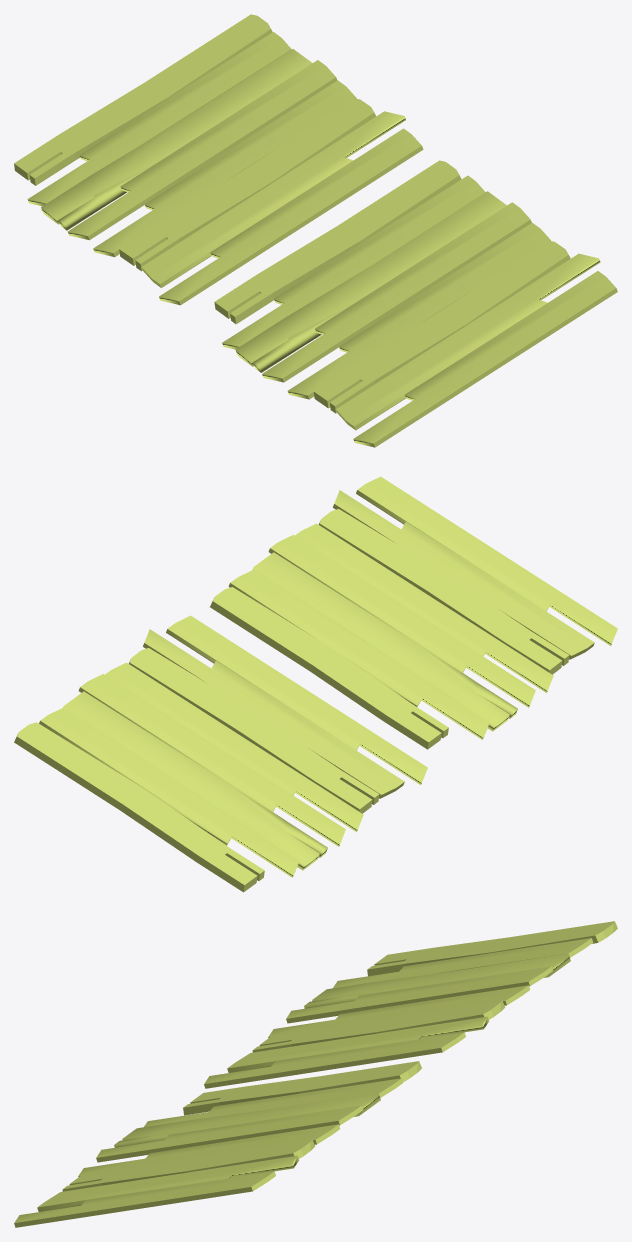
File: Beam_Structure_26B_Lod0.fbx
The picture shows the model from 3 angles, top to bottom: view 1: azimuth 30°, elevation 25°; view 2: azimuth 150°, elevation 25°; view 3: azimuth 330°, elevation 25°; orthographic projection. The views are drawn at different scales.
Parts seen in each view (by area): view 1: Beam_Structure_26B_Lod0; view 2: Beam_Structure_26B_Lod0; view 3: Beam_Structure_26B_Lod0.
Part boxes in pixels (left/top/right/bottom): Beam_Structure_26B_Lod0: left=14, top=14, right=617, bottom=447; Beam_Structure_26B_Lod0: left=14, top=476, right=617, bottom=892; Beam_Structure_26B_Lod0: left=14, top=921, right=617, bottom=1227.
Size of the model in its own units: 221 by 86.28 by 529.
